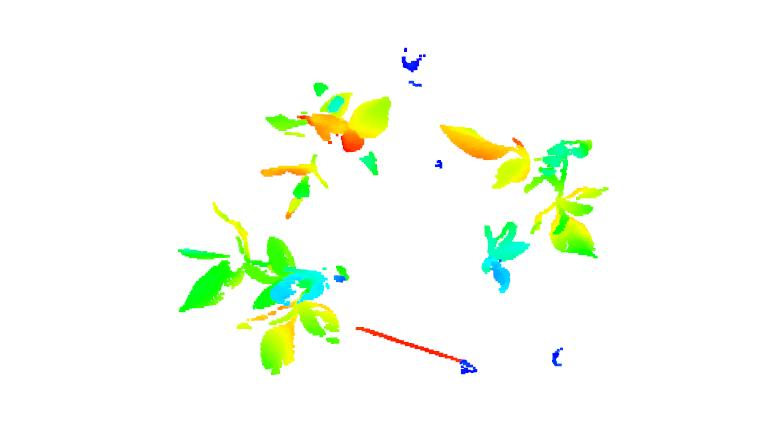mungbean: (167, 198, 354, 379), (435, 121, 606, 266), (255, 74, 395, 222), (475, 212, 532, 297)
